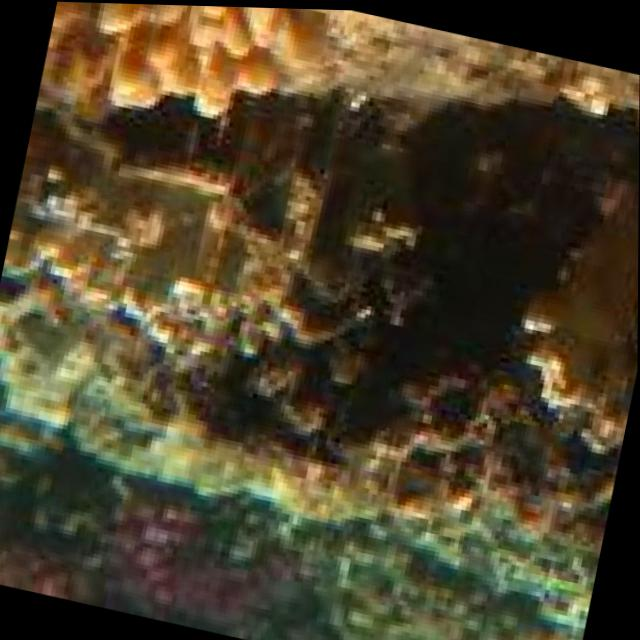Dead Coral: (221, 64, 595, 532)
Healthy Coral: (50, 1, 344, 151)
